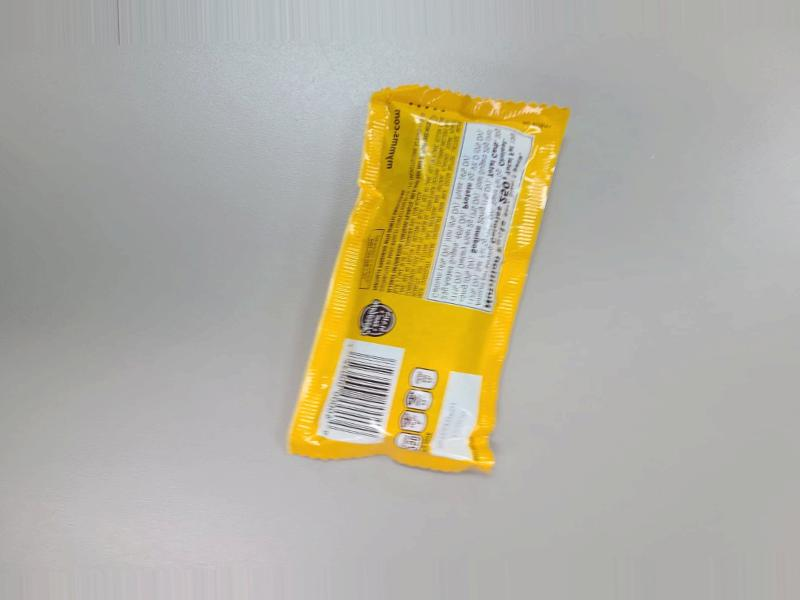m&m: (289, 96, 559, 472)
